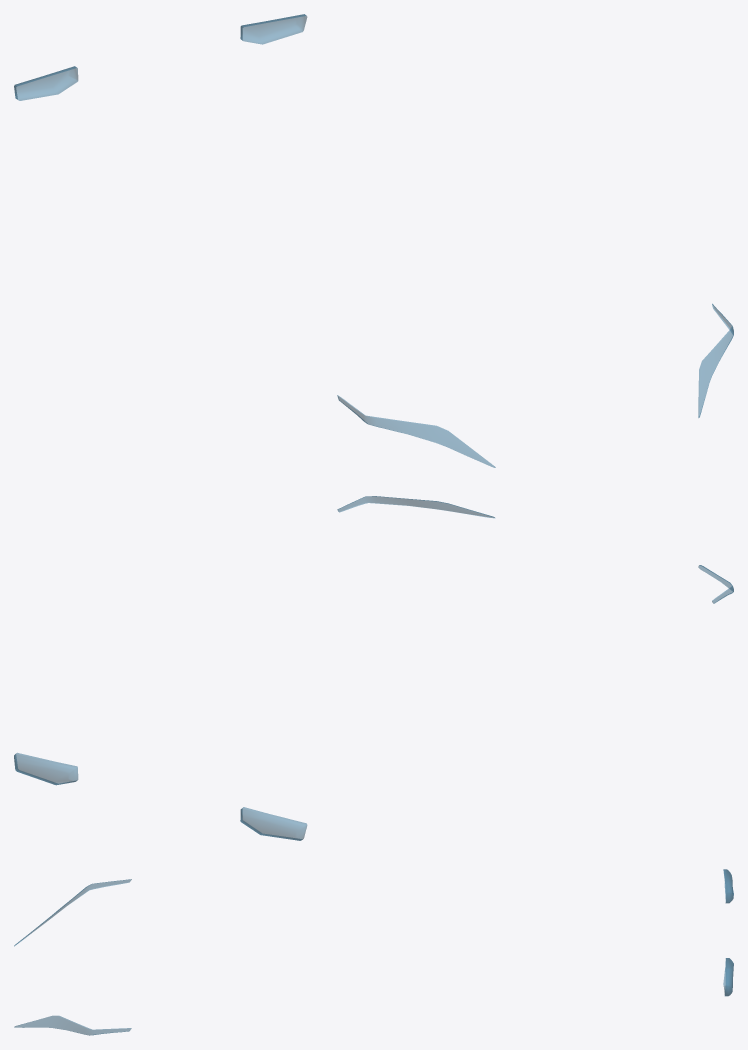
The model's file is VulcanFire_LightGlass.fbx.
The picture shows the model from 3 angles, top to bottom: view 1: azimuth 30°, elevation 25°; view 2: azimuth 150°, elevation 25°; view 3: azimuth 270°, elevation 25°; orthographic projection. The views are drawn at different scales.
Visible parts, largest first — view 1: AST_VFX-207_LightGlass; view 2: AST_VFX-207_LightGlass; view 3: AST_VFX-207_LightGlass.
Part boxes in pixels (bbox=[...]): AST_VFX-207_LightGlass: bbox=[14, 14, 733, 467]; AST_VFX-207_LightGlass: bbox=[14, 496, 733, 840]; AST_VFX-207_LightGlass: bbox=[14, 869, 733, 1035].
Size of the model in its own units: 2.61 by 0.5044 by 5.31.
